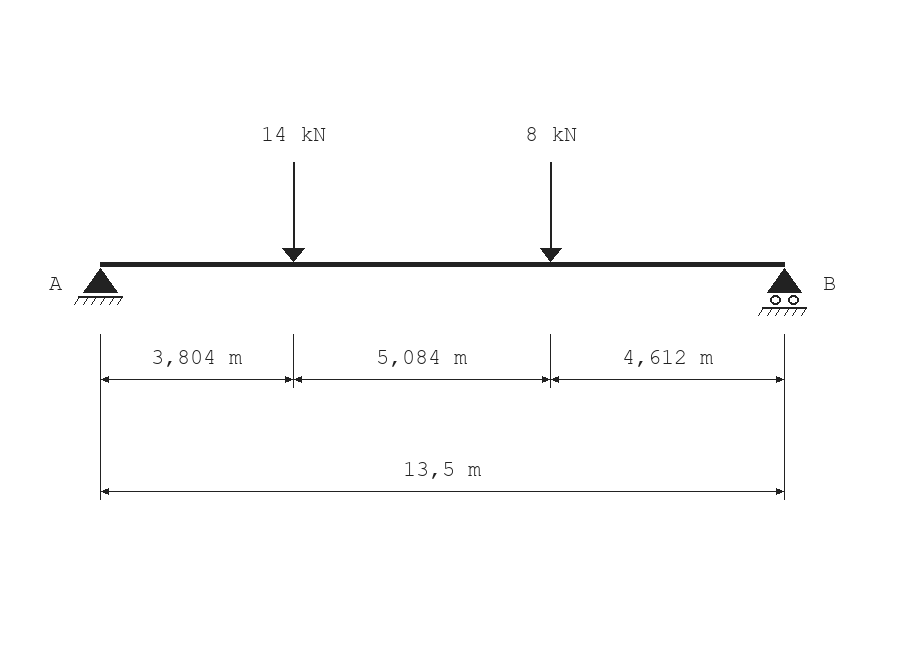pin_support: (74, 268, 123, 305)
point_load: (282, 162, 305, 262), (540, 162, 562, 262)
roller_support: (758, 268, 807, 316)
